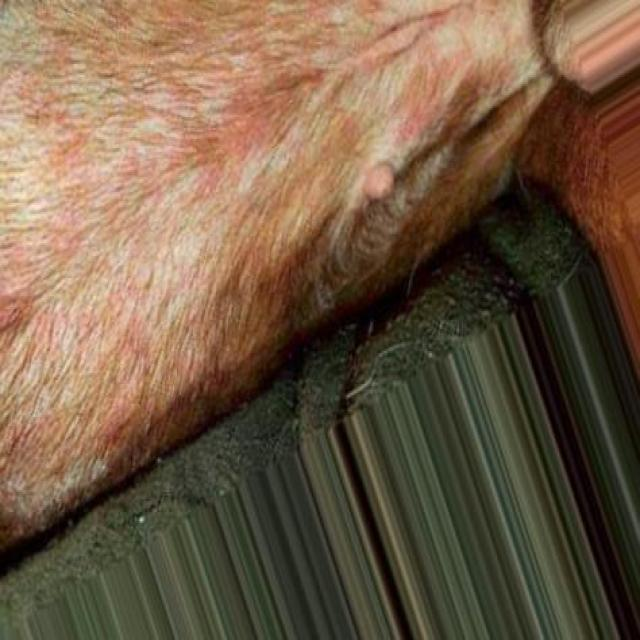di ung bo chet: (0, 0, 451, 229)
